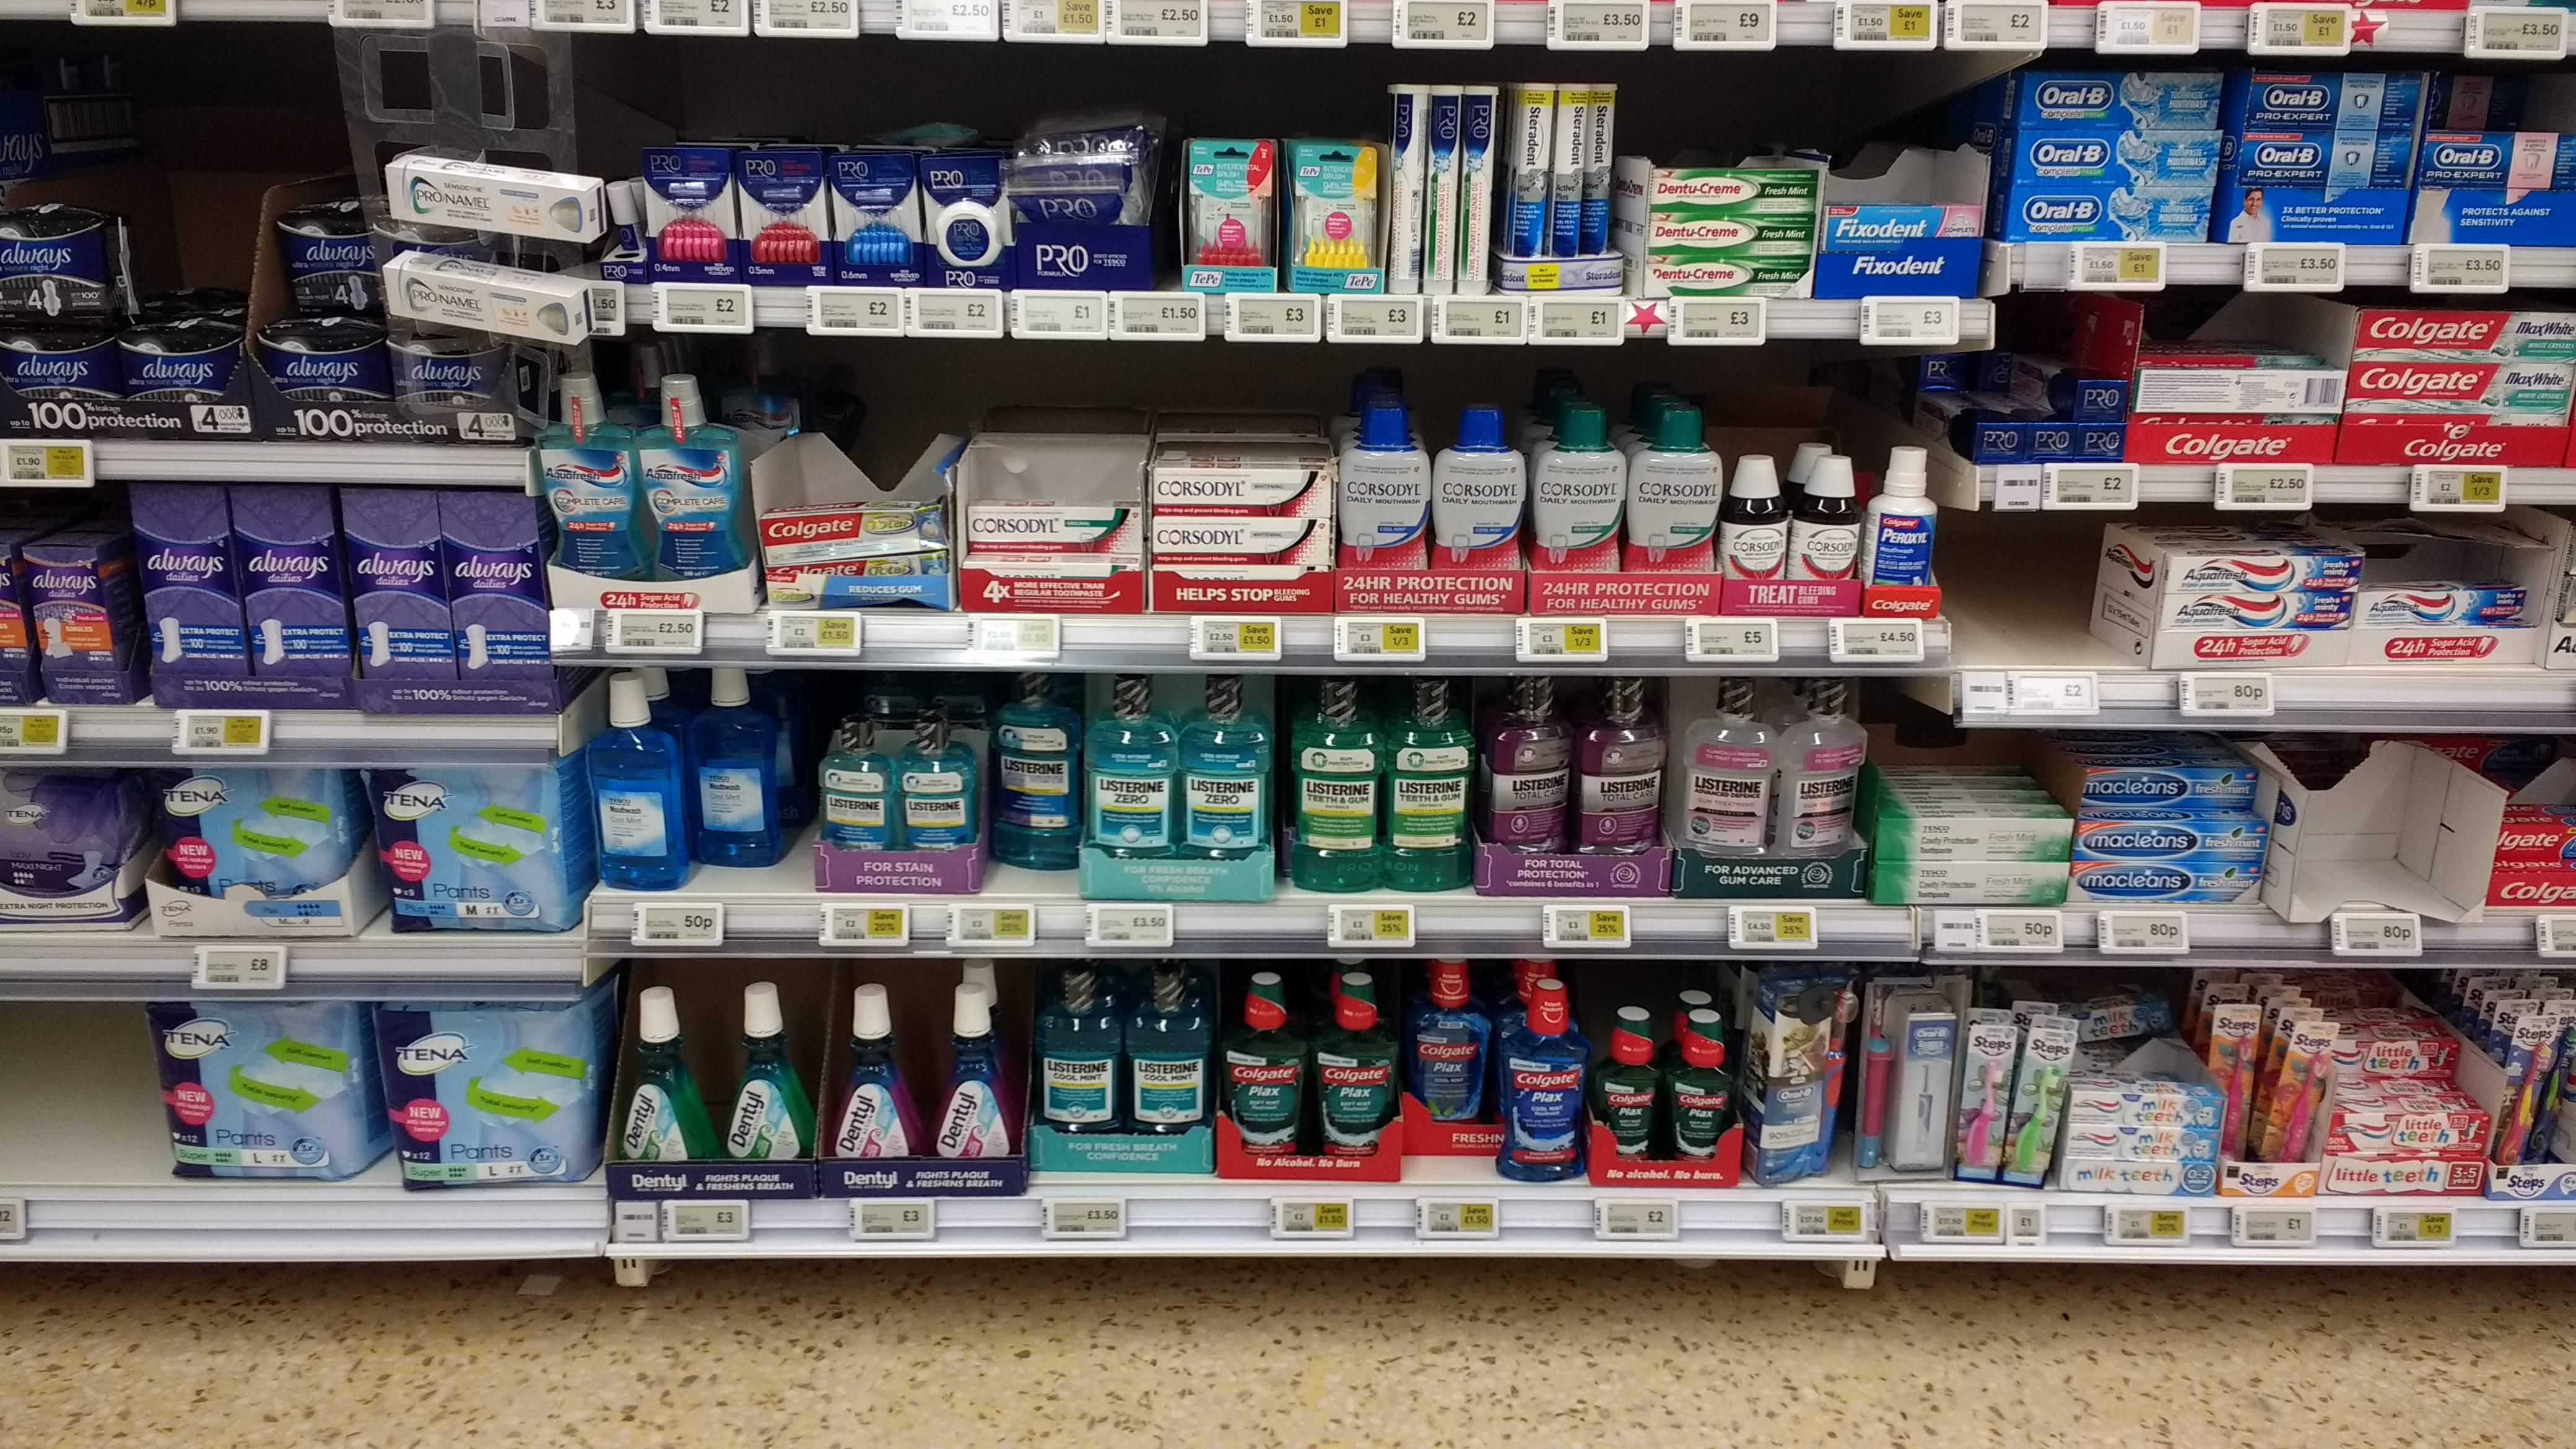empty: (2, 1008, 165, 1180), (2311, 747, 2450, 911), (115, 161, 255, 326), (1964, 506, 2104, 669)
